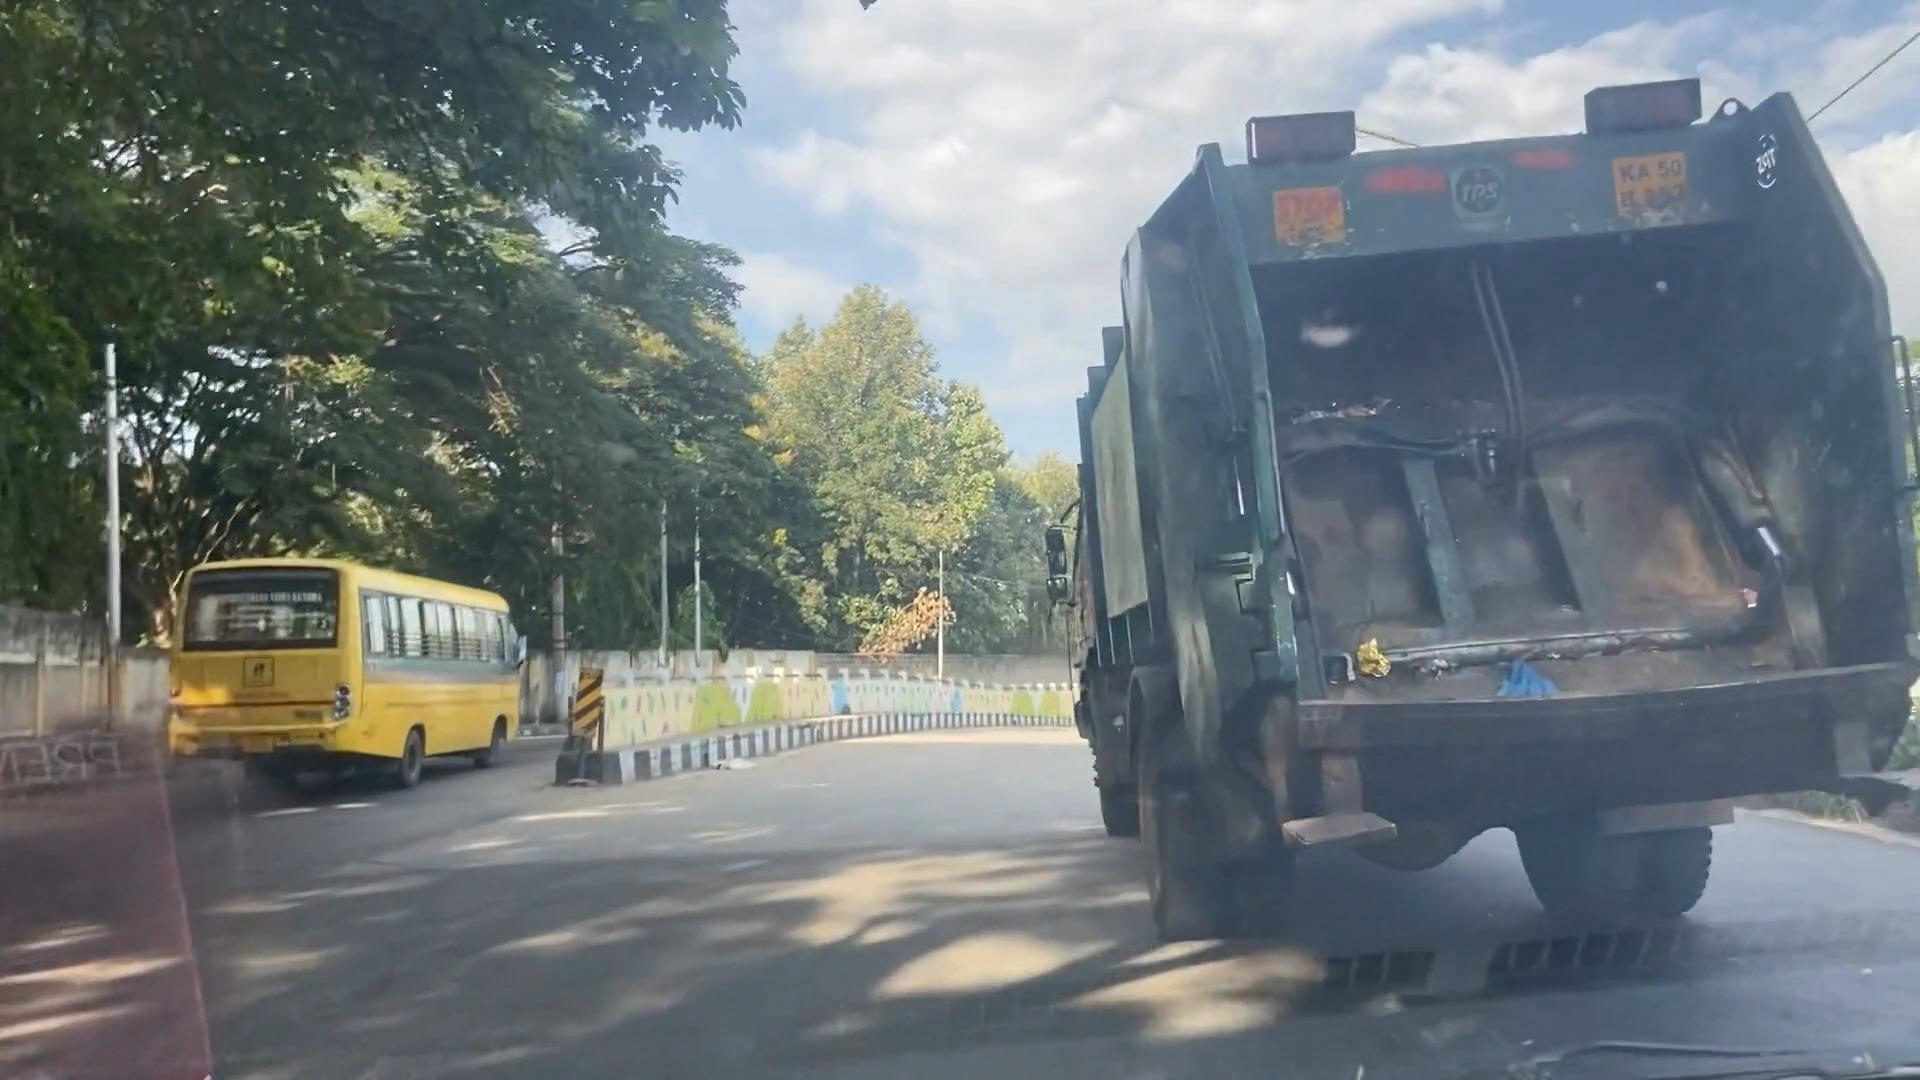HMV: (1083, 87, 1920, 985), (179, 567, 516, 789)
